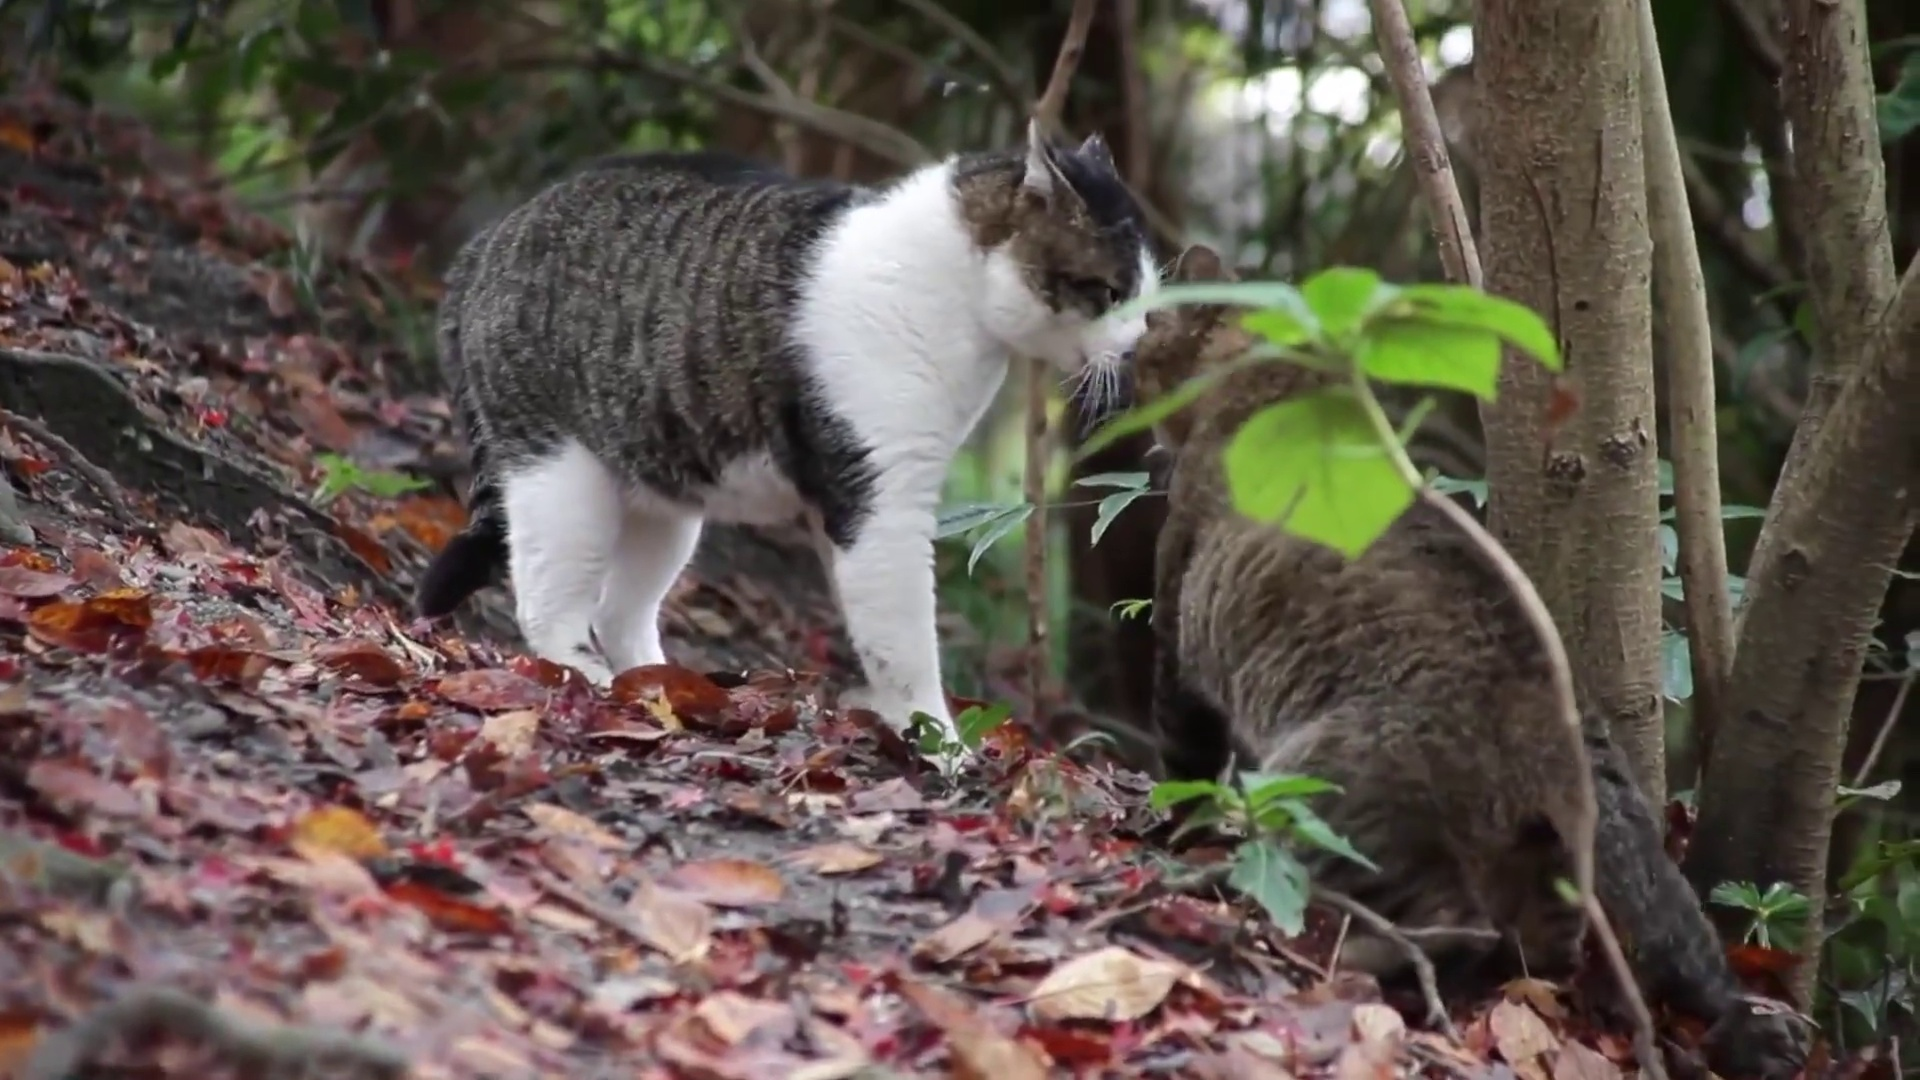black-white: (442, 117, 1155, 782)
pure black: (1127, 244, 1561, 909)
